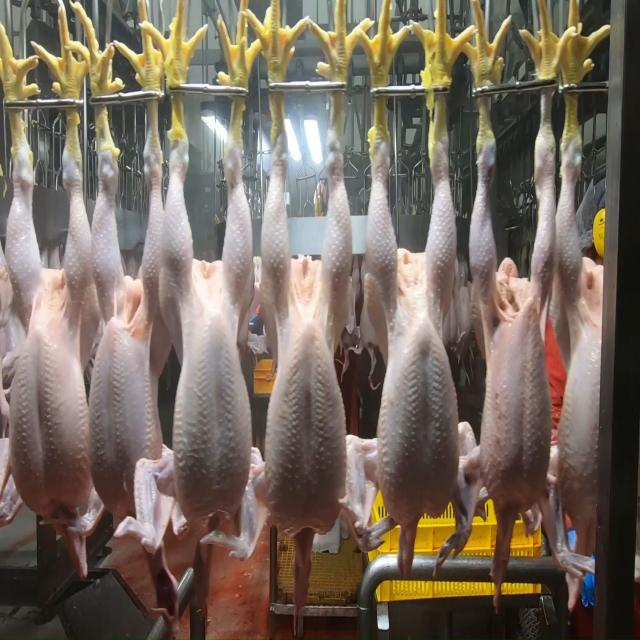chicken: (361, 156, 471, 541), (253, 154, 355, 541), (159, 149, 255, 532), (85, 124, 173, 540), (6, 142, 92, 517), (476, 133, 560, 514), (550, 124, 612, 542)
